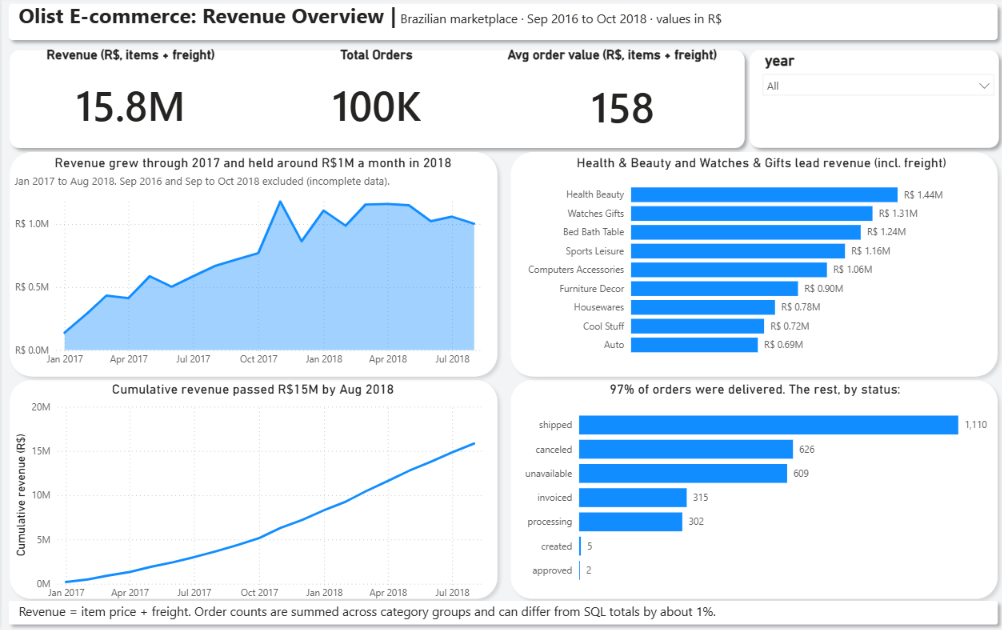

The page's visual inventory and layout, read from the dashboard file:
{"tool":"powerbi","page":{"name":"Revenue & Sales Overview","canvas":[1280,810],"ordinal":0},"visuals":[{"type":"group","id":"g1","title":"Background","box":[0,0,1280.9,810],"z":0},{"type":"areaChart","title":"Revenue grew through 2017 and held around R$1M a month in 2018","fields":{"Category":["Sales & Revenue Data.month_date"],"Y":["Sales & Revenue Data.Total revenue"]},"box":[12.1,201.5,618.7,278.8],"z":1000},{"type":"barChart","title":"Health & Beauty and Watches & Gifts lead revenue (incl. freight)","fields":{"Category":["Query1.category"],"Y":["Sales & Revenue Data.Total_revenue"]},"box":[658.8,201.8,621.9,267.1],"z":2000},{"type":"lineChart","title":"Cumulative revenue passed R$15M by Aug 2018","fields":{"Category":["Sales & Revenue Data.month_date"],"Y":["Sales & Revenue Data.Cumulative Revenue"]},"box":[12.1,489.6,618.7,289.1],"z":3000},{"type":"slicer","fields":{"Values":["Query1.year"]},"box":[960.3,64.6,315.8,123.9],"z":5000},{"type":"shape","box":[0.7,58.5,955.8,143.3],"z":6000,"group":"g1"},{"type":"clusteredBarChart","fields":{"Category":["Sales & Revenue Data.order_status"],"Y":["Sales & Revenue Data.Total Orders"]},"box":[656.7,490.5,608,272],"z":6000},{"type":"shape","box":[641.1,480.3,639.4,297.4],"z":6250,"group":"g1"},{"type":"shape","box":[0.7,480.3,640.4,297.4],"z":6375,"group":"g1"},{"type":"shape","box":[0.7,189.1,640.4,304.7],"z":6500,"group":"g1"},{"type":"shape","box":[641.1,189.1,639.4,304.7],"z":6750,"group":"g1"},{"type":"shape","box":[944.9,58.5,336,143],"z":7000,"group":"g1"},{"type":"shape","box":[0,0,1280,64],"z":7250,"group":"g1"},{"type":"shape","box":[0,762,1280,48],"z":7500,"group":"g1"},{"type":"textbox","box":[16,768,1248,32],"z":9000},{"type":"textbox","box":[16,0,1264,48],"z":10000},{"type":"cardVisual","title":"Revenue (R$, items + freight)","fields":{"Data":["Sales & Revenue Data.Total revenue"]},"box":[11.6,64,306,125],"z":11000},{"type":"cardVisual","title":"Avg order value (R$, items + freight)","fields":{"Data":["Sales & Revenue Data.Average Order Value"]},"box":[640,64,304,128],"z":12000},{"type":"cardVisual","title":"Total Orders ","fields":{"Data":["Sales & Revenue Data.Total Orders"]},"box":[325.8,64,306,125],"z":13000}]}

Visuals, with their boxes in screenshot pixels (x1, y1, x2, y2), scaled from the page's 1280x810 canvas onto the 1002x630 screenshot:
"Background" group: region(0, 0, 1001, 629)
"Revenue grew through 2017 and held around R$1M a month in 2018" areaChart: region(9, 157, 494, 374)
"Health & Beauty and Watches & Gifts lead revenue (incl. freight)" barChart: region(516, 157, 1001, 365)
"Cumulative revenue passed R$15M by Aug 2018" lineChart: region(9, 381, 494, 606)
slicer - Query1.year: region(752, 50, 999, 147)
shape: region(1, 46, 749, 157)
clusteredBarChart - Sales & Revenue Data.order_status x Sales & Revenue Data.Total Orders: region(514, 382, 990, 593)
shape: region(502, 374, 1001, 605)
shape: region(1, 374, 502, 605)
shape: region(1, 147, 502, 384)
shape: region(502, 147, 1001, 384)
shape: region(740, 46, 1001, 157)
shape: region(0, 0, 1001, 50)
shape: region(0, 593, 1001, 629)
textbox: region(13, 597, 989, 622)
textbox: region(13, 0, 1001, 37)
"Revenue (R$, items + freight)" cardVisual: region(9, 50, 249, 147)
"Avg order value (R$, items + freight)" cardVisual: region(501, 50, 739, 149)
"Total Orders " cardVisual: region(255, 50, 495, 147)
